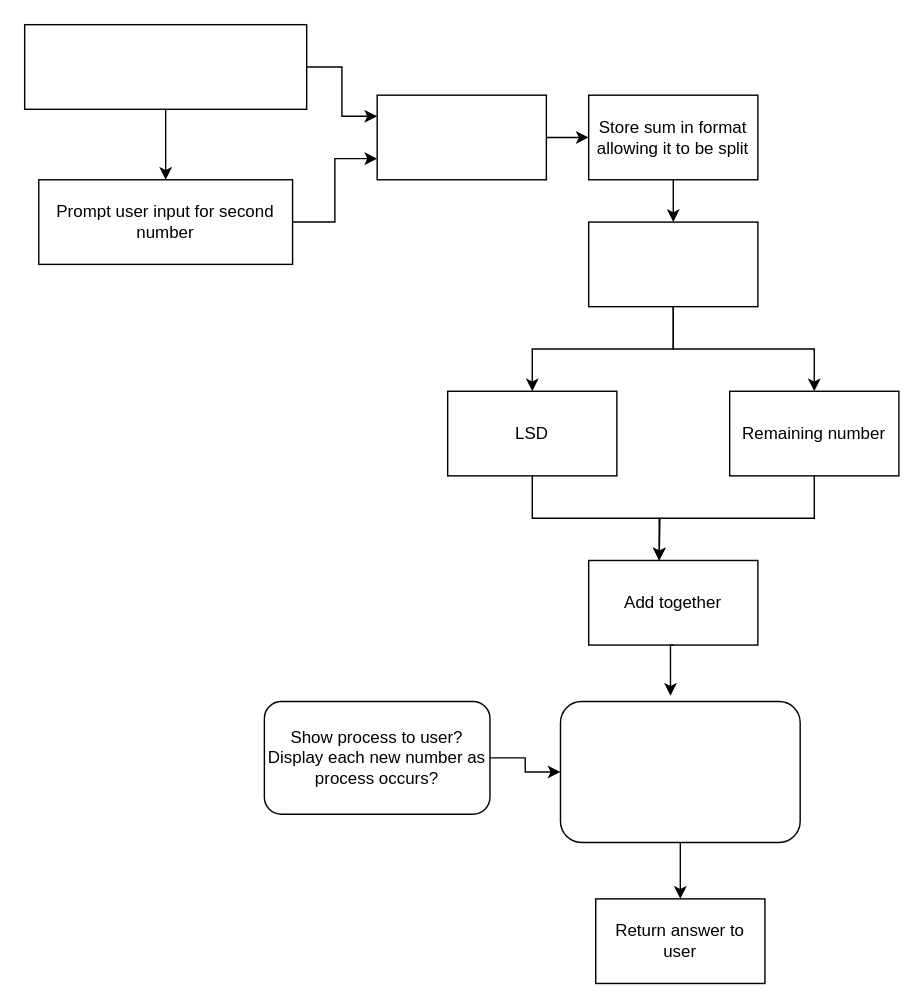
Some shapes in this 924 by 1008 pixel diagram are drawn without their labels. The centre of each missing label's shape, as x and y in pixels:
"Prompt user input for first number" goes at [165,66].
"Recursively repeat process until final answer is a single digit/character" goes at [679,771].
"Separate LSD (last digit)" goes at [672,264].
"Validate input / add numbers together" goes at [461,137].
